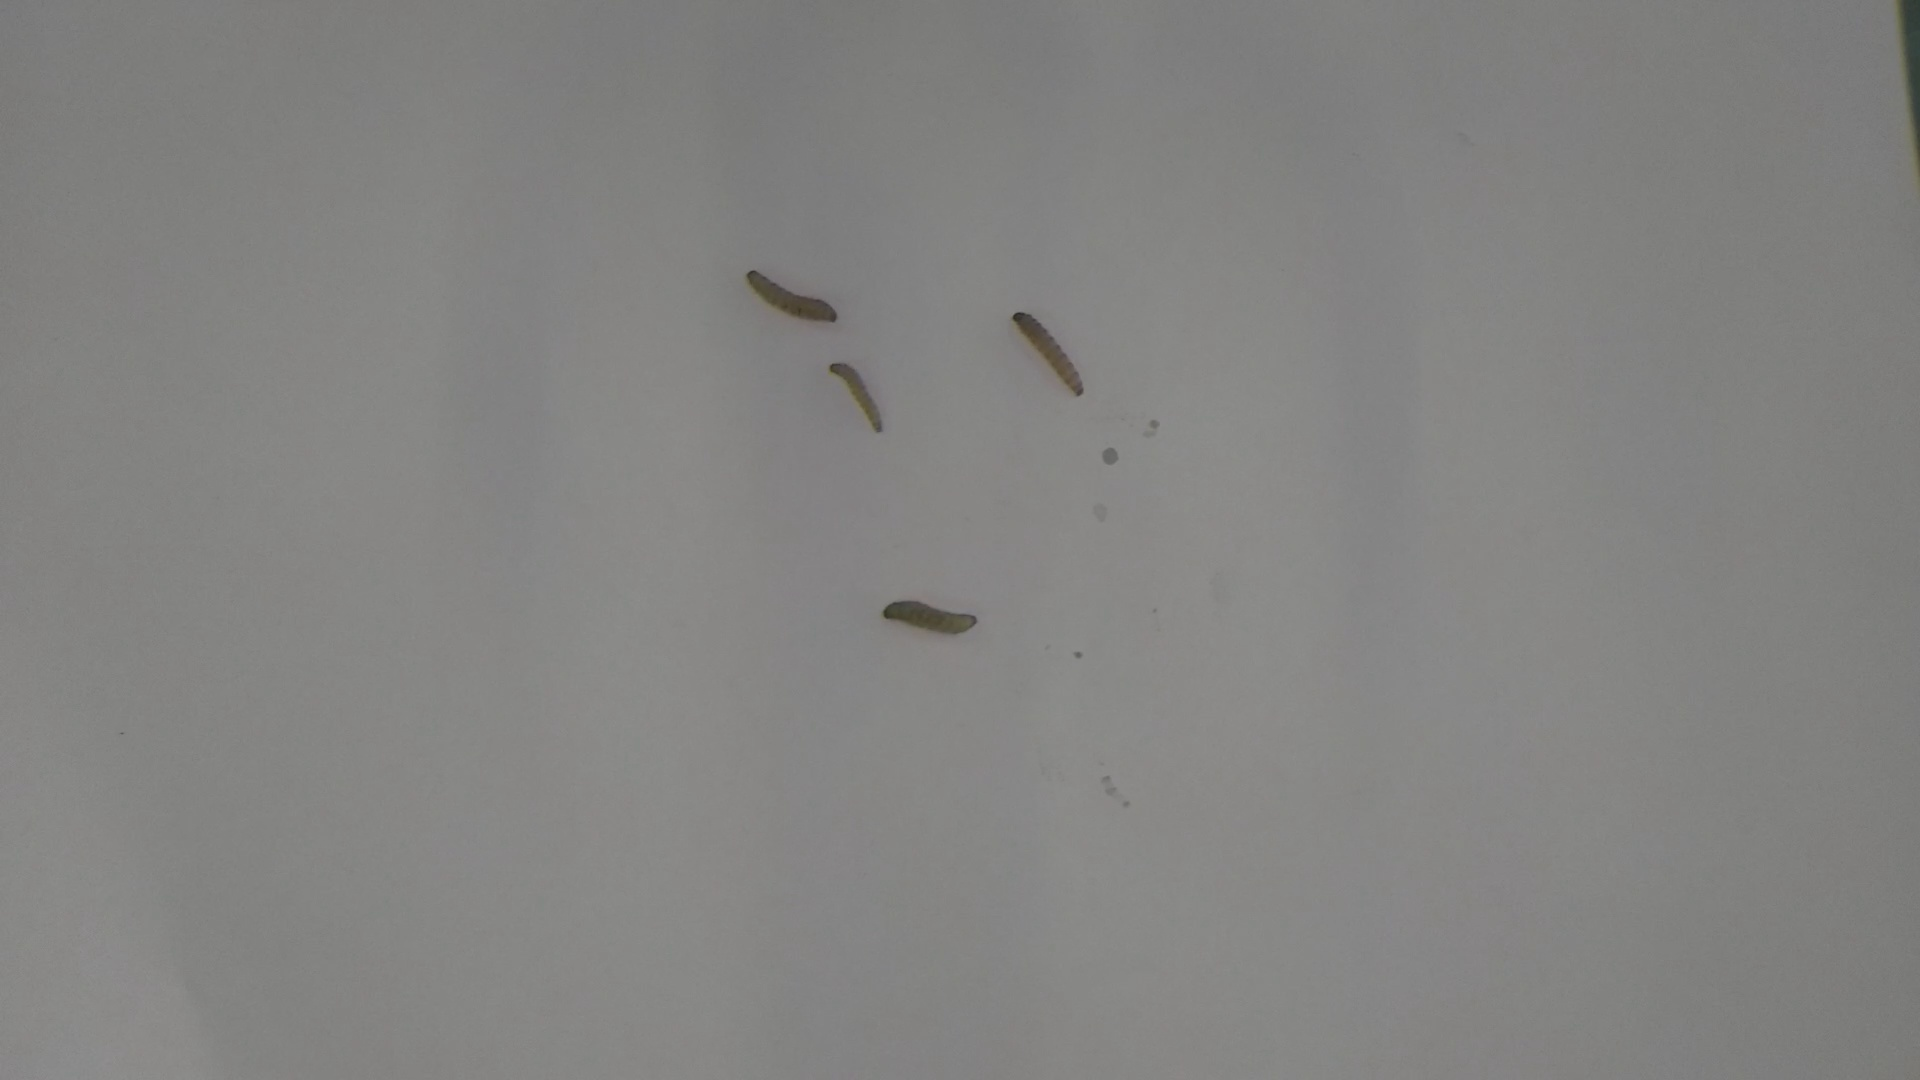efsb: (1007, 302, 1098, 406), (736, 265, 843, 327), (823, 355, 893, 448), (876, 595, 978, 640)
